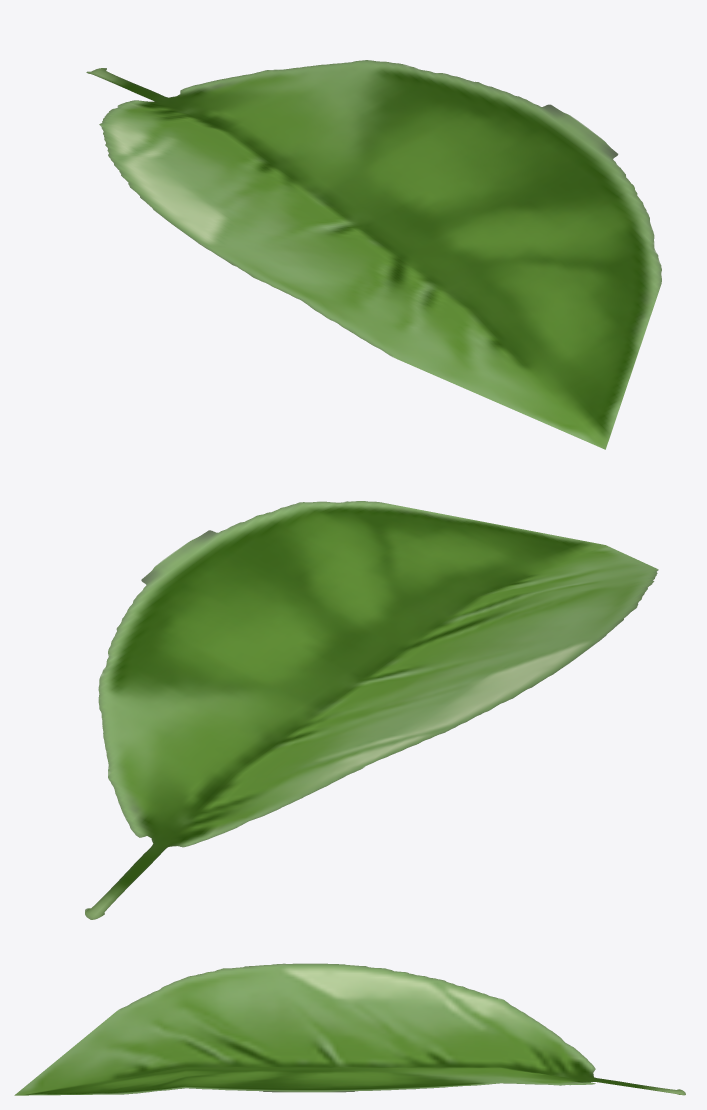
File: SM_FleurSpline_04.fbx
3 views of the same model, one above another, from view 1: azimuth 30°, elevation 25°; view 2: azimuth 150°, elevation 25°; view 3: azimuth 270°, elevation 25° (orthographic). The views are drawn at different scales.
Visible parts, largest first — view 1: SM_FleurSpline_04; view 2: SM_FleurSpline_04; view 3: SM_FleurSpline_04.
Boxes of the visible parts, x1,y1,x2,y2 form: SM_FleurSpline_04: [86, 60, 661, 449]; SM_FleurSpline_04: [85, 501, 658, 919]; SM_FleurSpline_04: [14, 963, 685, 1095].
Size of the model in its own units: 5.14 by 1.23 by 10.56.
Materials: 1 (1 with a texture image).
